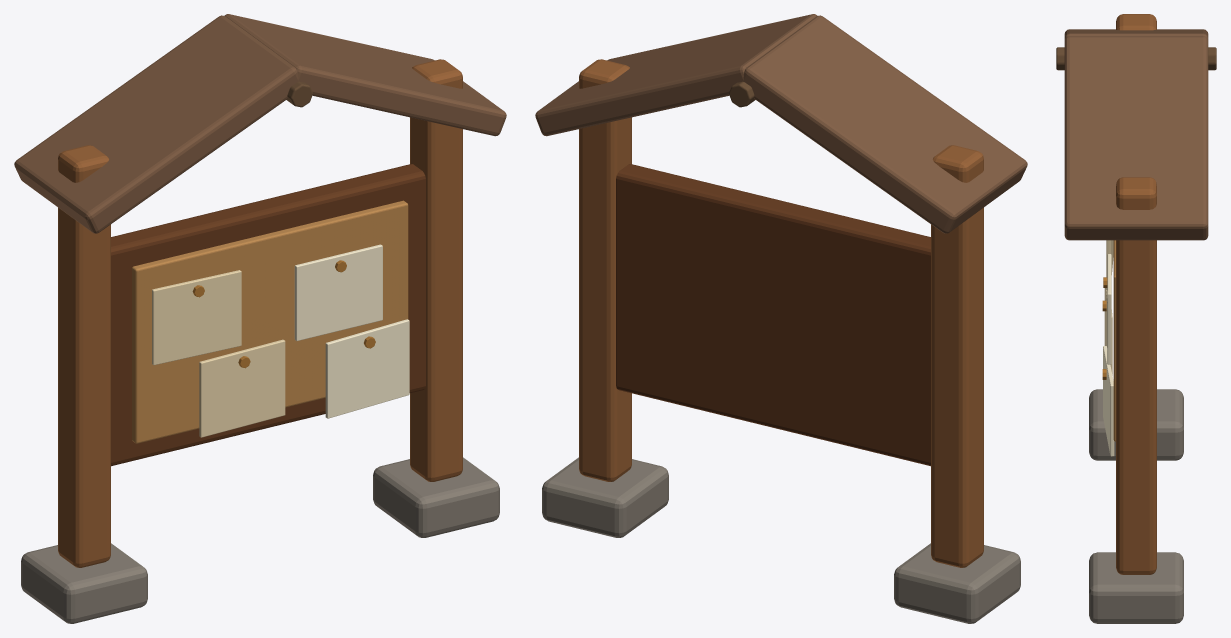
3 renders of one model, left to right at view 1: azimuth 30°, elevation 25°; view 2: azimuth 150°, elevation 25°; view 3: azimuth 270°, elevation 25°, orthographic. The views are drawn at different scales.
Visible parts, largest first — view 1: WK_RoofedNoticeboard_LOD0_High; view 2: WK_RoofedNoticeboard_LOD0_High; view 3: WK_RoofedNoticeboard_LOD0_High.
Boxes of the visible parts, x1,y1,x2,y2 form: WK_RoofedNoticeboard_LOD0_High: (14, 14, 506, 623); WK_RoofedNoticeboard_LOD0_High: (535, 14, 1027, 623); WK_RoofedNoticeboard_LOD0_High: (1056, 14, 1216, 623).
Size of the model in its own units: 2.92 by 3.31 by 0.98.
